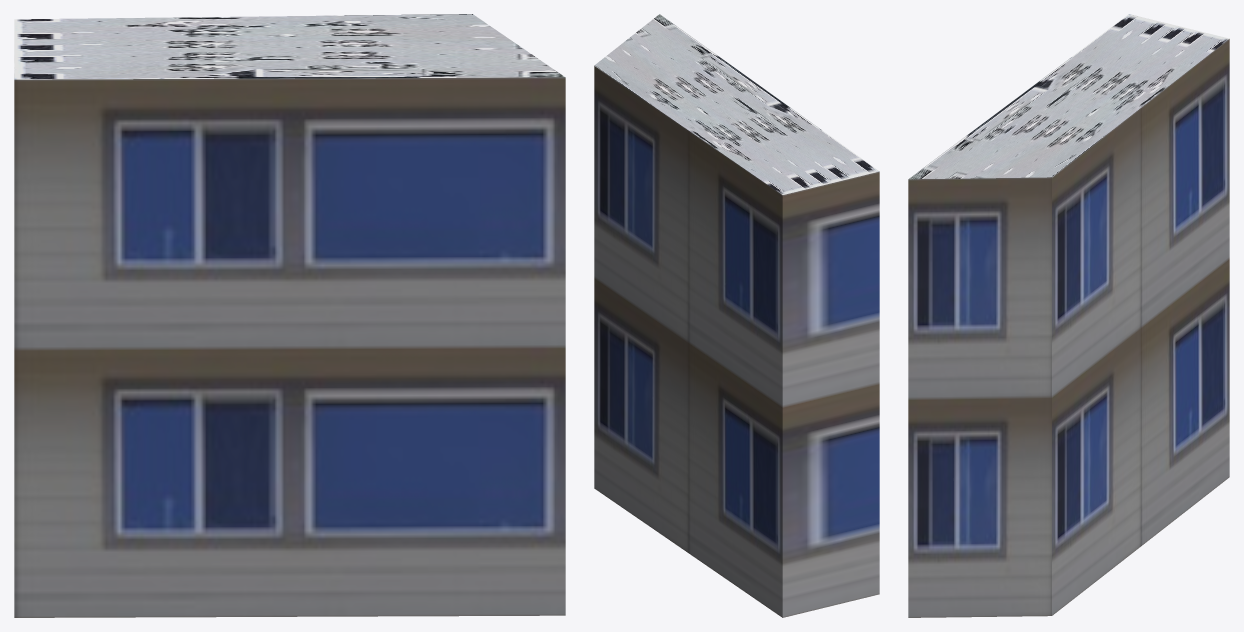
File: ResTex__5147.fbx
3 renders of one model, left to right at view 1: azimuth 30°, elevation 25°; view 2: azimuth 150°, elevation 25°; view 3: azimuth 270°, elevation 25°, orthographic. The views are drawn at different scales.
Visible parts, largest first — view 1: CityEngineMaterial_23_m, CityEngineMaterial_m; view 2: CityEngineMaterial_23_m, CityEngineMaterial_m; view 3: CityEngineMaterial_23_m, CityEngineMaterial_m.
Boxes of the visible parts, <box> form: CityEngineMaterial_23_m: <box>14,77,565,617</box>; CityEngineMaterial_m: <box>14,14,564,79</box>; CityEngineMaterial_23_m: <box>594,66,879,617</box>; CityEngineMaterial_m: <box>594,14,879,194</box>; CityEngineMaterial_23_m: <box>908,39,1229,617</box>; CityEngineMaterial_m: <box>908,14,1229,179</box>.
Size of the model in its own units: 4.85 by 6 by 3.98.
2 materials, 2 textured.
